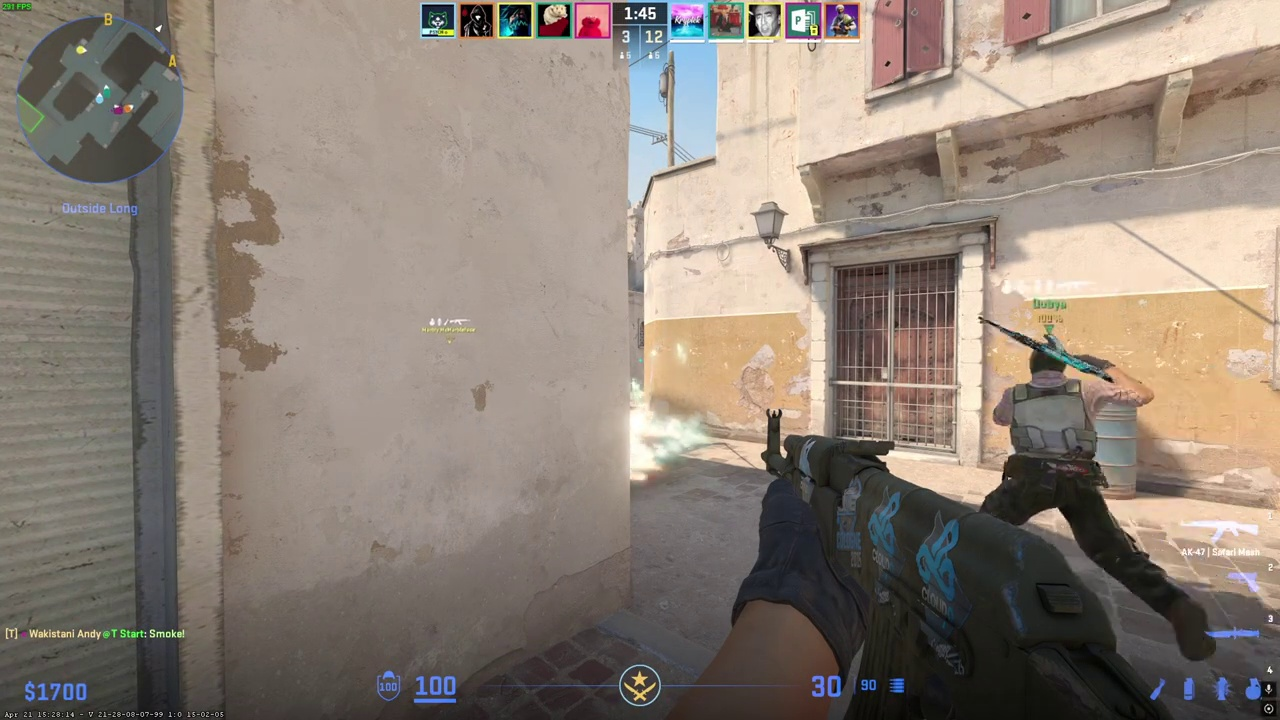Terrorist: (986, 343, 1112, 546)
